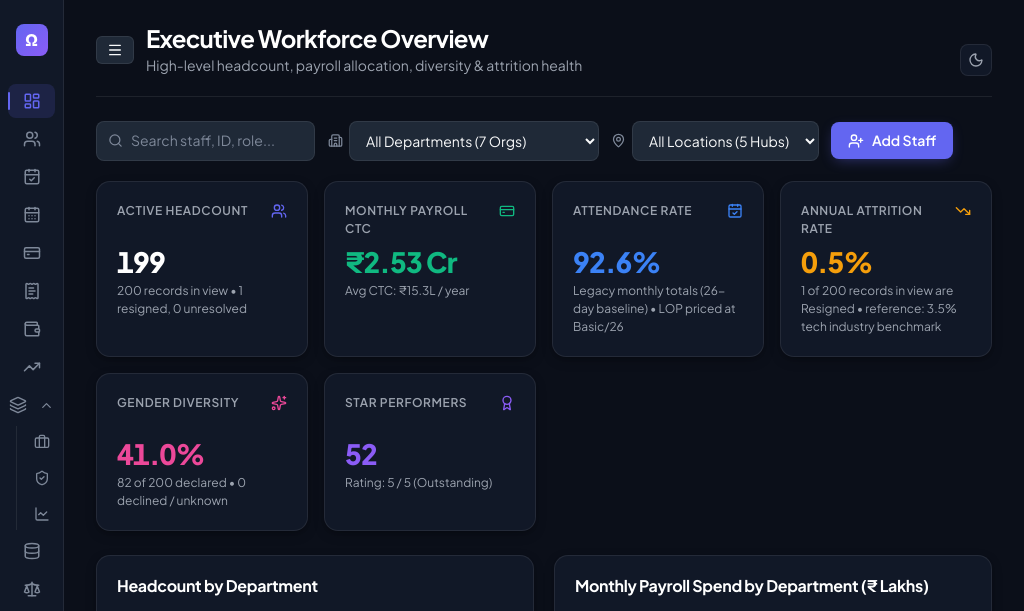
App shell desktop navigation › collapses and restores the sidebar from the header toggle
The width and height of the screenshot is (1024, 611).
Click the button named "Close navigation": (115, 50) [96,36,134,64]
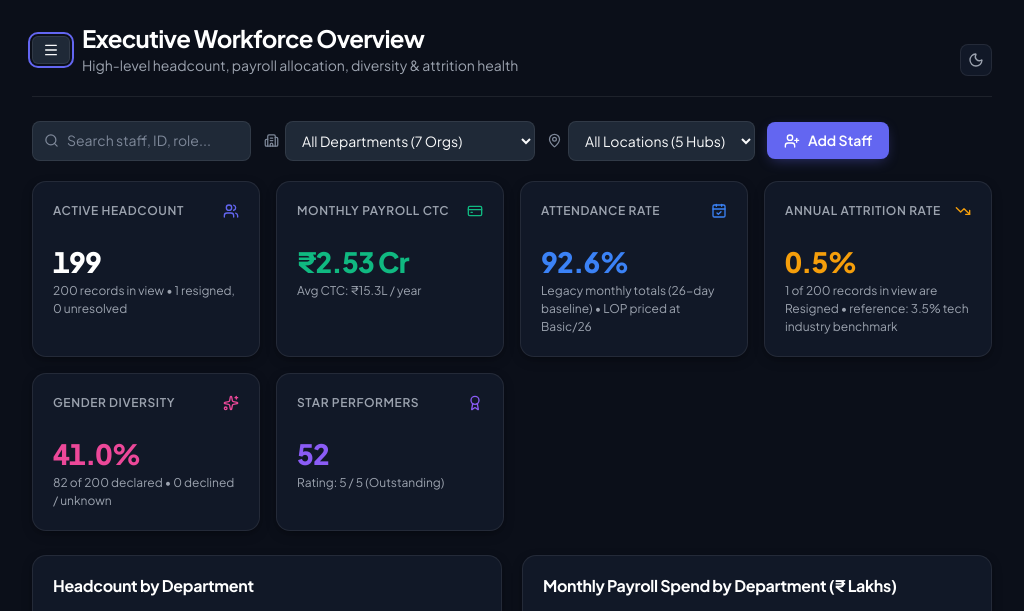
Check: the button named "Open navigation" is collapsed
Click the button named "Open navigation": (51, 50) [32,36,70,64]
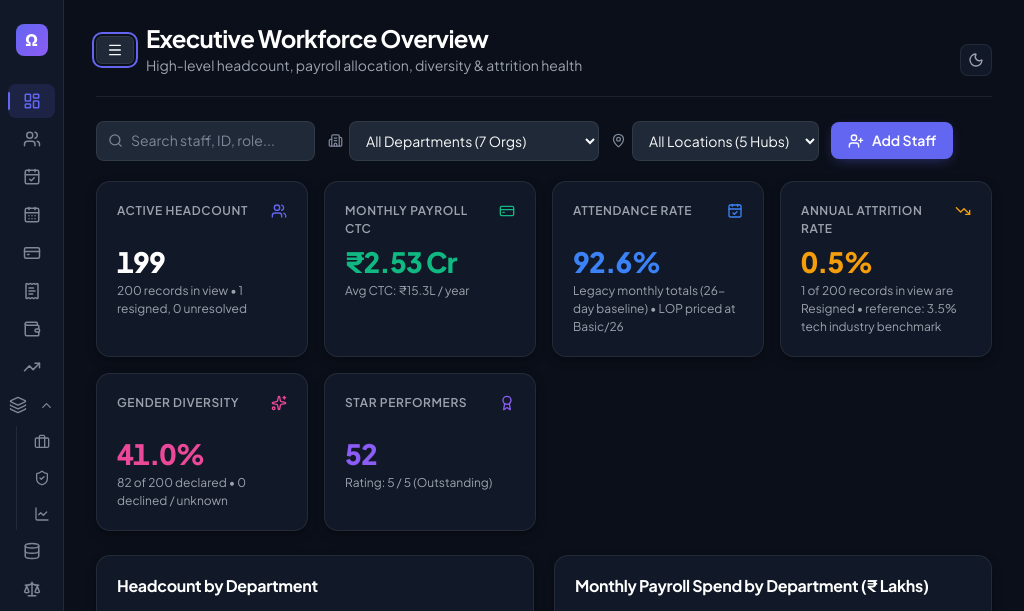
Check: the button named "Close navigation" is expanded, box [96,36,134,64]
